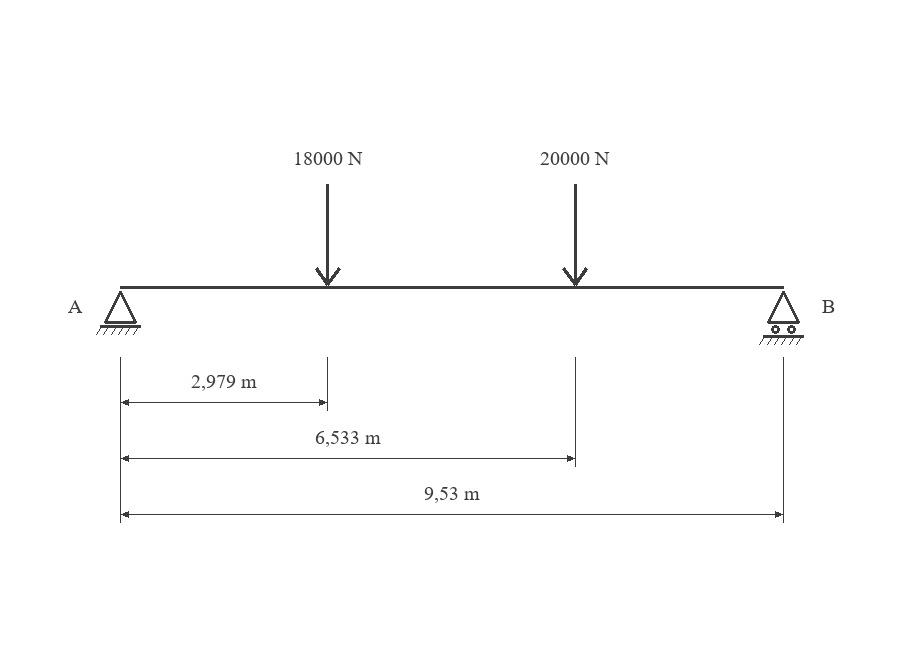pin_support: (96, 291, 141, 335)
point_load: (315, 184, 341, 286), (562, 184, 588, 286)
roller_support: (759, 291, 804, 345)
